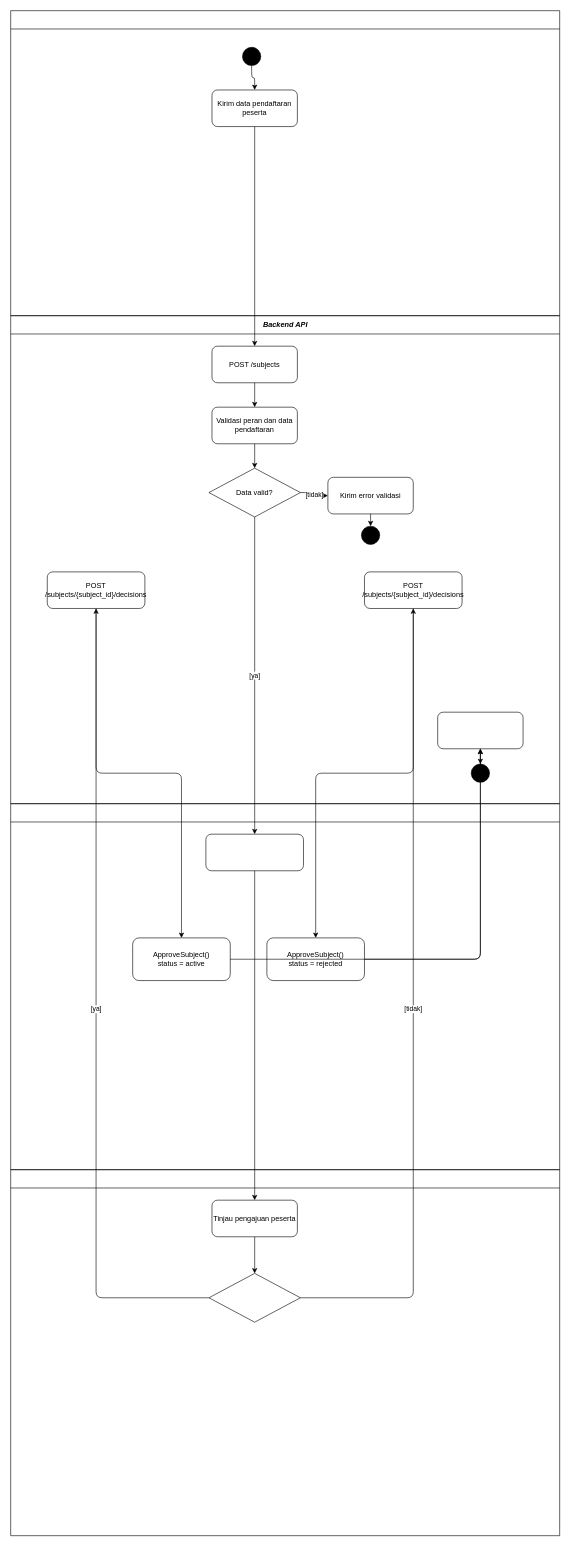
This 570x1546 diagram has some shape labels left out. Each missing label, with the box of its shape:
Blockchain: (10, 803, 560, 1170)
CreatePending() status = pending: (205, 834, 303, 871)
Distributor Bank: (10, 10, 560, 316)
Kirim hasil pendaftaran: (437, 712, 523, 749)
Pengajuan disetujui?: (208, 1273, 300, 1322)
Staf Distributor: (10, 1169, 560, 1536)
